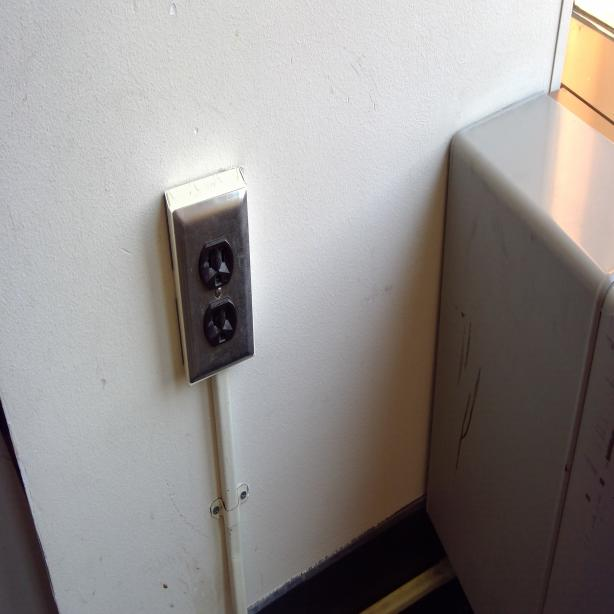typeb: (202, 244, 230, 292), (207, 303, 238, 343)
